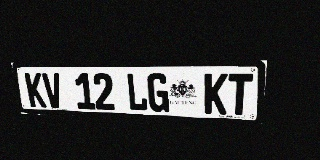1: (73, 73, 96, 109)
2: (92, 73, 115, 110)
G: (147, 73, 169, 112)
K: (204, 73, 228, 114), (24, 73, 47, 108)
L: (126, 73, 148, 111)
T: (227, 73, 253, 115)
V: (42, 73, 64, 108)
